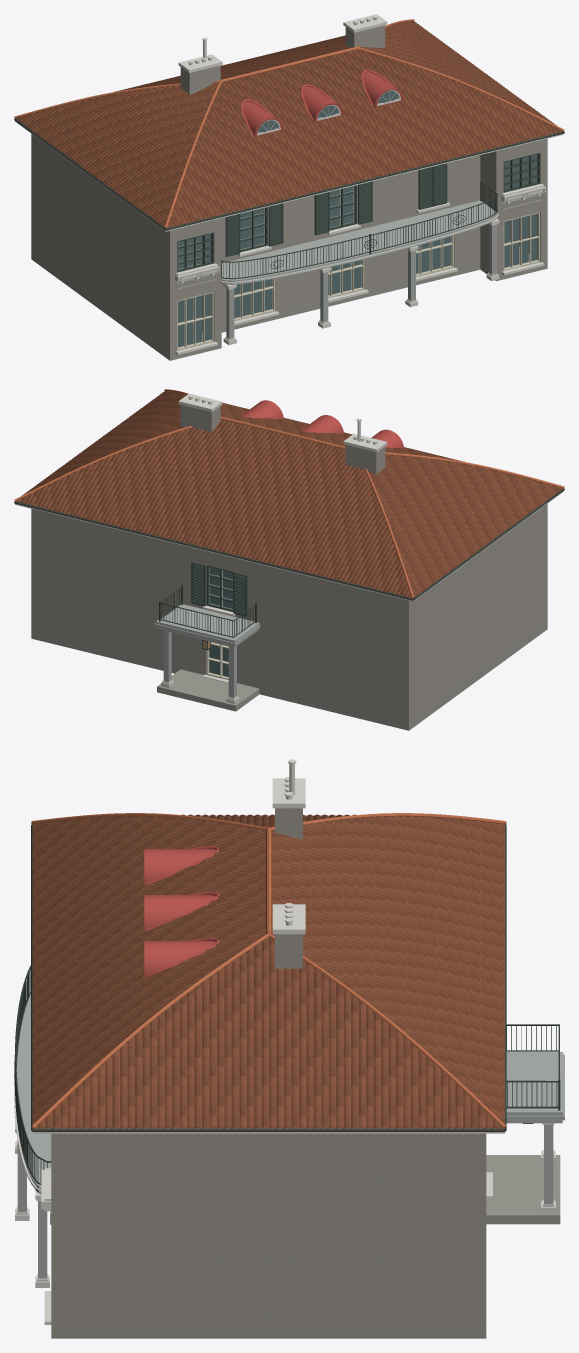
File: xuhui-soong-ching-ling-residence-raw.glb
3 renders of one model, top to bottom at view 1: azimuth 30°, elevation 25°; view 2: azimuth 150°, elevation 25°; view 3: azimuth 270°, elevation 25°, orthographic. The views are drawn at different scales.
Visible parts, largest first — view 1: 上海宋庆龄故居主楼; view 2: 上海宋庆龄故居主楼; view 3: 上海宋庆龄故居主楼.
Boxes of the visible parts, left/top/right/bottom form: 上海宋庆龄故居主楼: left=14, top=14, right=564, bottom=360; 上海宋庆龄故居主楼: left=14, top=389, right=564, bottom=730; 上海宋庆龄故居主楼: left=14, top=759, right=564, bottom=1338.
Size of the model in its own units: 23.31 by 13.28 by 17.73.
16 materials, 1 textured.
